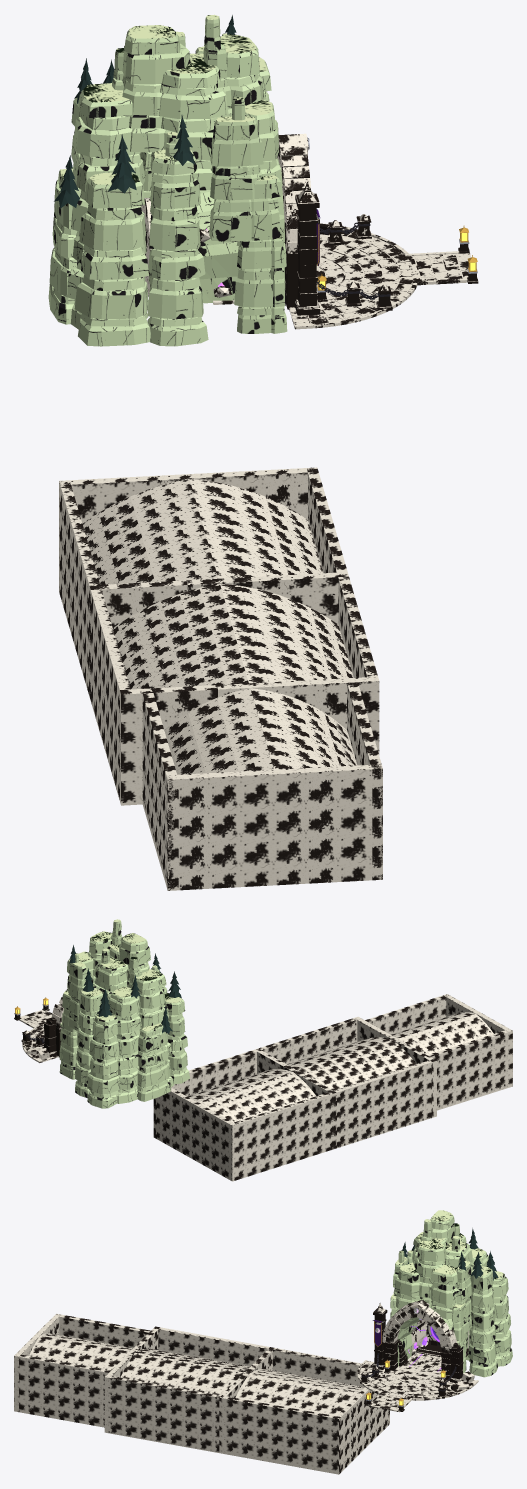
Rendered from ILHA3_17_DUNGEON_4ec5f0.fbx.
3 renders of one model, top to bottom at view 1: azimuth 30°, elevation 25°; view 2: azimuth 150°, elevation 25°; view 3: azimuth 270°, elevation 25°, orthographic. The views are drawn at different scales.
Visible parts, largest first — view 1: SG_Dun_Rooms_Shell__Stone_SG_Castle, SG_Dun_Rooms_Vault__Stone_SGDunVault, SG_Dun_Cave_Body__Cliff_Rock_SG, SG_Dun_Cave_Body__Cliff_Rock_SG_B, SG_Dun_Cave_Body__Cliff_Rock_SG_Dark, SG_Dun_Approach_Floor__Stone_SG_MarbleBlack, SG_Dun_Cave_Body__Grass_SG, SG_Dun_Approach_Floor__Stone_SG_Obsidian, SG_Dun_Cave_Interior__Cliff_Rock_SG_Dark, SG_Dun_Cave_Pines__Leaf_SG_Pine, SG_Dun_Cave_Mouth__Stone_SG_Castle_B, SG_Dun_Cave_Pillars__Stone_SGDunVault (+3 smaller); view 2: SG_Dun_Rooms_Shell__Stone_SG_Castle, SG_Dun_Rooms_Vault__Stone_SGDunVault, SG_Dun_Cave_Body__Cliff_Rock_SG, SG_Dun_Cave_Body__Cliff_Rock_SG_B, SG_Dun_Cave_Body__Cliff_Rock_SG_Dark, SG_Dun_Cave_Body__Grass_SG, SG_Dun_Cave_Pines__Leaf_SG_Pine, SG_Dun_Approach_Floor__Stone_SG_MarbleBlack, SG_Dun_Cave_Pillars__Stone_SGDunVault, SG_Dun_Cave_Body__Cliff_Rock_SG_Top, SG_Dun_Approach_Floor__Stone_SG_Obsidian; view 3: SG_Dun_Rooms_Shell__Stone_SG_Castle, SG_Dun_Rooms_Vault__Stone_SGDunVault, SG_Dun_Cave_Body__Cliff_Rock_SG, SG_Dun_Cave_Body__Cliff_Rock_SG_Dark, SG_Dun_Approach_Floor__Stone_SG_MarbleBlack, SG_Dun_Cave_Body__Cliff_Rock_SG_B, SG_Dun_Cave_Body__Grass_SG, SG_Dun_Approach_Floor__Stone_SG_Obsidian, SG_Dun_Cave_Mouth__Stone_SG_Violet, SG_Dun_Cave_Mouth__Stone_SG_Castle_B, SG_Dun_Cave_Pillars__Stone_SGDunVault, SG_Dun_Cave_Interior__Cliff_Rock_SG_Dark (+7 smaller).
Part boxes in pixels (bbox=[...]): SG_Dun_Rooms_Shell__Stone_SG_Castle: bbox=[59, 467, 382, 890]; SG_Dun_Rooms_Vault__Stone_SGDunVault: bbox=[82, 479, 356, 774]; SG_Dun_Cave_Body__Cliff_Rock_SG: bbox=[49, 16, 287, 346]; SG_Dun_Cave_Body__Cliff_Rock_SG_B: bbox=[48, 47, 282, 333]; SG_Dun_Cave_Body__Cliff_Rock_SG_Dark: bbox=[53, 29, 284, 326]; SG_Dun_Approach_Floor__Stone_SG_MarbleBlack: bbox=[290, 229, 470, 324]; SG_Dun_Cave_Body__Grass_SG: bbox=[60, 14, 282, 238]; SG_Dun_Approach_Floor__Stone_SG_Obsidian: bbox=[289, 223, 470, 329]; SG_Dun_Cave_Interior__Cliff_Rock_SG_Dark: bbox=[149, 159, 285, 303]; SG_Dun_Cave_Pines__Leaf_SG_Pine: bbox=[54, 15, 236, 208]; SG_Dun_Cave_Mouth__Stone_SG_Castle_B: bbox=[279, 145, 310, 306]; SG_Dun_Cave_Pillars__Stone_SGDunVault: bbox=[297, 208, 329, 306]; SG_Dun_Rooms_Shell__Stone_SG_Castle: bbox=[153, 994, 512, 1181]; SG_Dun_Rooms_Vault__Stone_SGDunVault: bbox=[187, 1012, 493, 1122]; SG_Dun_Cave_Body__Cliff_Rock_SG: bbox=[59, 921, 189, 1108]; SG_Dun_Cave_Body__Cliff_Rock_SG_B: bbox=[59, 935, 187, 1101]; SG_Dun_Cave_Body__Cliff_Rock_SG_Dark: bbox=[60, 930, 186, 1098]; SG_Dun_Cave_Body__Grass_SG: bbox=[61, 919, 182, 1031]; SG_Dun_Cave_Pines__Leaf_SG_Pine: bbox=[69, 945, 181, 1033]; SG_Dun_Approach_Floor__Stone_SG_MarbleBlack: bbox=[20, 1010, 58, 1061]; SG_Dun_Cave_Pillars__Stone_SGDunVault: bbox=[32, 1017, 56, 1059]; SG_Dun_Cave_Body__Cliff_Rock_SG_Top: bbox=[60, 934, 185, 1098]; SG_Dun_Approach_Floor__Stone_SG_Obsidian: bbox=[19, 1010, 58, 1062]; SG_Dun_Rooms_Shell__Stone_SG_Castle: bbox=[14, 1313, 389, 1474]; SG_Dun_Rooms_Vault__Stone_SGDunVault: bbox=[29, 1333, 364, 1415]; SG_Dun_Cave_Body__Cliff_Rock_SG: bbox=[393, 1221, 512, 1377]; SG_Dun_Cave_Body__Cliff_Rock_SG_Dark: bbox=[391, 1215, 509, 1372]; SG_Dun_Approach_Floor__Stone_SG_MarbleBlack: bbox=[359, 1361, 476, 1410]; SG_Dun_Cave_Body__Cliff_Rock_SG_B: bbox=[390, 1225, 511, 1373]; SG_Dun_Cave_Body__Grass_SG: bbox=[391, 1210, 503, 1341]; SG_Dun_Approach_Floor__Stone_SG_Obsidian: bbox=[357, 1360, 478, 1412]; SG_Dun_Cave_Mouth__Stone_SG_Violet: bbox=[385, 1307, 449, 1353]; SG_Dun_Cave_Mouth__Stone_SG_Castle_B: bbox=[382, 1301, 456, 1380]; SG_Dun_Cave_Pillars__Stone_SGDunVault: bbox=[374, 1314, 474, 1389]; SG_Dun_Cave_Interior__Cliff_Rock_SG_Dark: bbox=[397, 1317, 467, 1366].
Size of the model in its own units: 138 by 102 by 184.
Materials: 17 (4 with a texture image).
